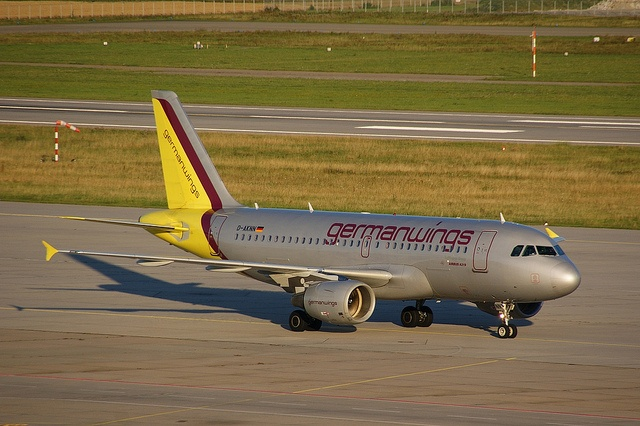airplane: (1, 91, 583, 426)
